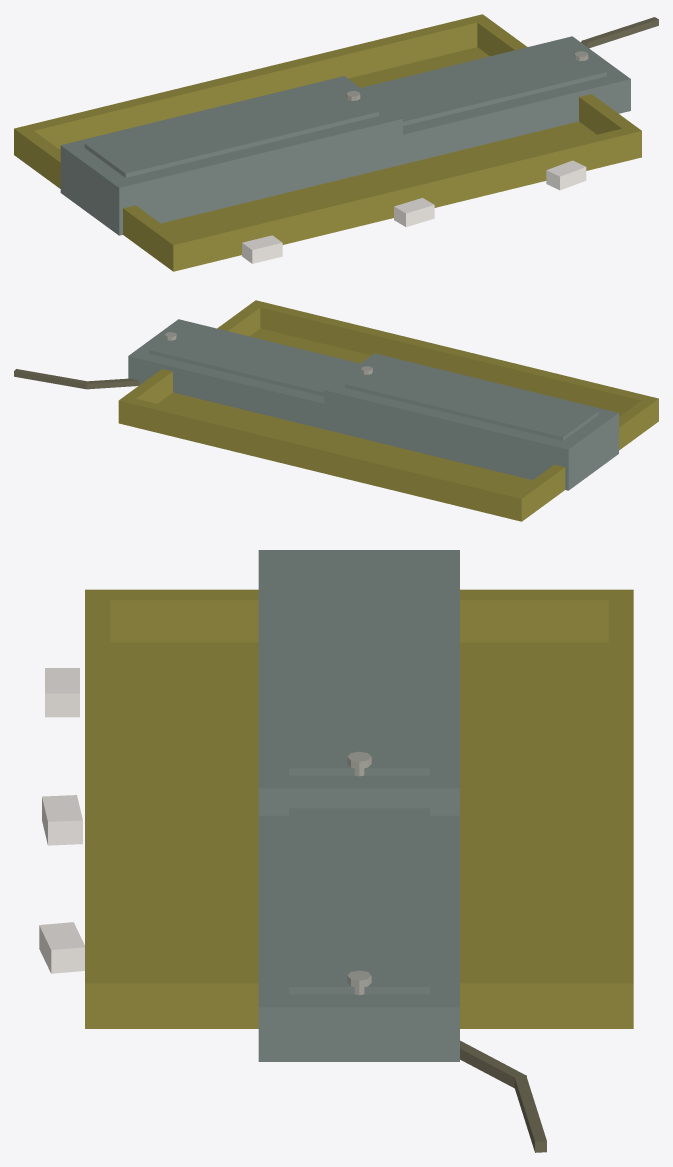
The model's file is SM_CisternaFlexible_v4_Doble_LOD0.fbx.
3 views of the same model, one above another, from view 1: azimuth 30°, elevation 25°; view 2: azimuth 150°, elevation 25°; view 3: azimuth 270°, elevation 25° (orthographic). The views are drawn at different scales.
Parts seen in each view (by area): view 1: SM_farp_betera_v4_LOD0; view 2: SM_farp_betera_v4_LOD0; view 3: SM_farp_betera_v4_LOD0.
Boxes of the visible parts, x1,y1,x2,y2 form: SM_farp_betera_v4_LOD0: (14,14,658,271); SM_farp_betera_v4_LOD0: (14,300,658,521); SM_farp_betera_v4_LOD0: (39,550,633,1152).
Bounding box in the file's own units: 12.24 × 1.06 × 5.91.
